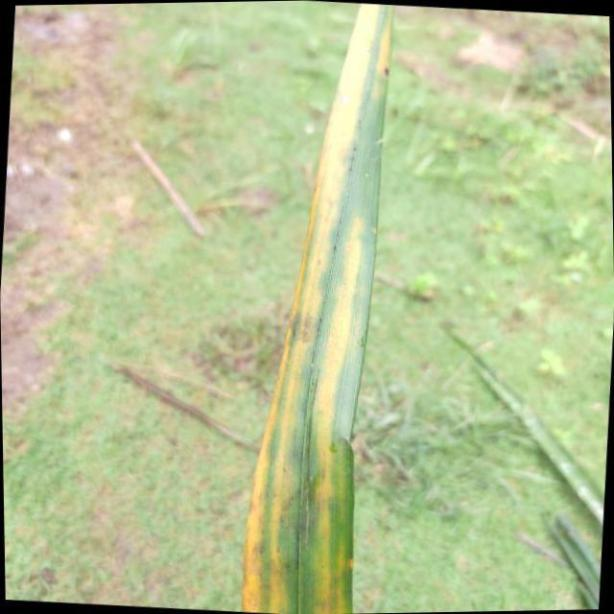Megnesium: (242, 0, 396, 614)
